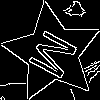M: (27, 28, 87, 86)
